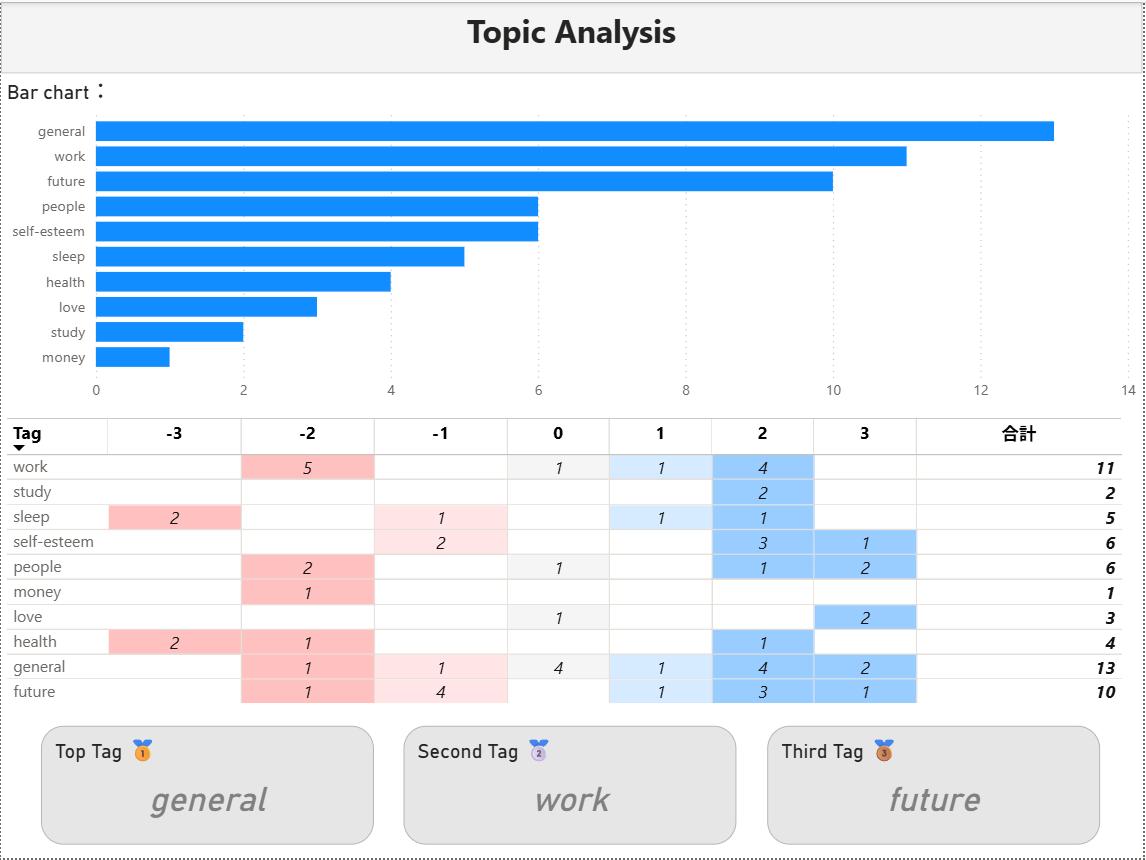

What the dashboard file says about the page in this screenshot:
{"tool":"powerbi","page":{"name":"Topic Analysis","canvas":[960,720],"ordinal":2},"visuals":[{"type":"barChart","title":"Bar chart： ","fields":{"Category":["chattomo_logs.Tag"],"Y":["CountNonNull(chattomo_logs.Tag)"]},"box":[0,51.5,959.9,284.9],"z":0},{"type":"pivotTable","fields":{"Rows":["chattomo_logs.Tag"],"Columns":["chattomo_logs.mood_score"],"Values":["CountNonNull(chattomo_logs.mood_score)"]},"box":[0,336.5,959.9,251.3],"z":1000},{"type":"textbox","box":[0,0,952.6,51.5],"z":2000},{"type":"card","fields":{"Values":["chattomo_logs.Top Tag"]},"box":[0,608.8,327,111.4],"z":3000},{"type":"card","fields":{"Values":["chattomo_logs.Second Tag"]},"box":[327,608.8,314.4,111.4],"z":4000},{"type":"card","fields":{"Values":["chattomo_logs.Third Tag"]},"box":[641.4,608.8,318.6,111.4],"z":5000}]}

Visuals, with their boxes in screenshot pixels (x1, y1, x2, y2), scaled from the page's 960x720 canvas onto the 1146x860 screenshot:
"Bar chart： " barChart: {"x1": 0, "y1": 62, "x2": 1145, "y2": 402}
pivotTable - chattomo_logs.Tag x chattomo_logs.mood_score: {"x1": 0, "y1": 402, "x2": 1145, "y2": 702}
textbox: {"x1": 0, "y1": 0, "x2": 1137, "y2": 62}
card - chattomo_logs.Top Tag: {"x1": 0, "y1": 727, "x2": 390, "y2": 859}
card - chattomo_logs.Second Tag: {"x1": 390, "y1": 727, "x2": 766, "y2": 859}
card - chattomo_logs.Third Tag: {"x1": 766, "y1": 727, "x2": 1145, "y2": 859}
